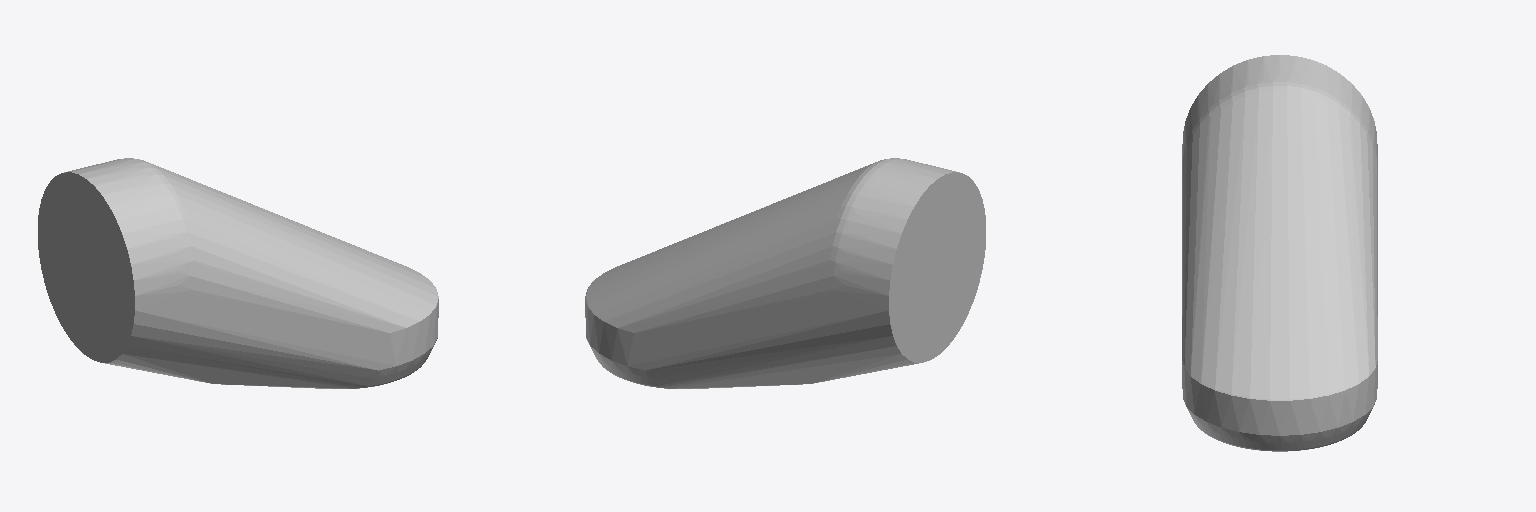
Rendered from forearm_roll_link_collision.obj.
3 renders of one model, left to right at view 1: azimuth 30°, elevation 25°; view 2: azimuth 150°, elevation 25°; view 3: azimuth 270°, elevation 25°, orthographic.
Size of the model in its own units: 0.2085 by 0.139 by 0.104.